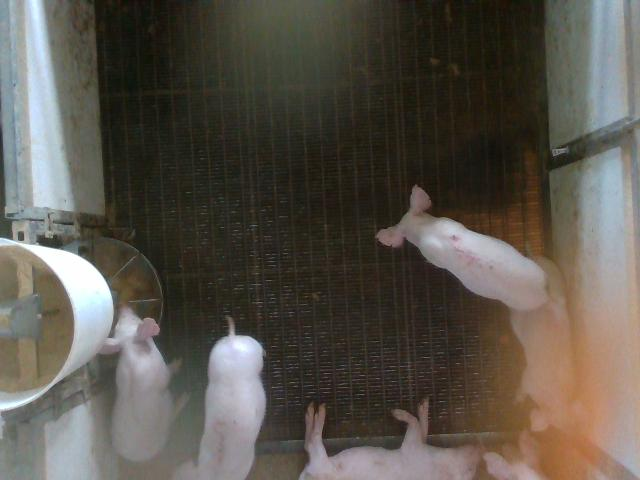pig-5: (378, 185, 549, 311)
